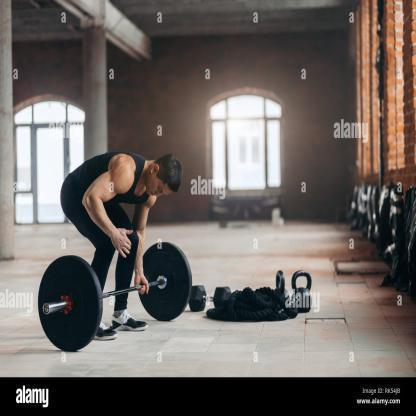Barbell: (41, 300, 54, 320)
